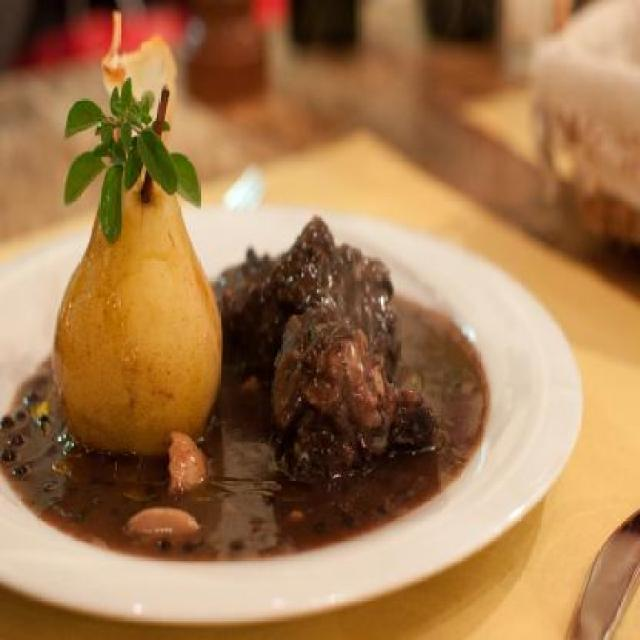Pear: (47, 148, 213, 461)
